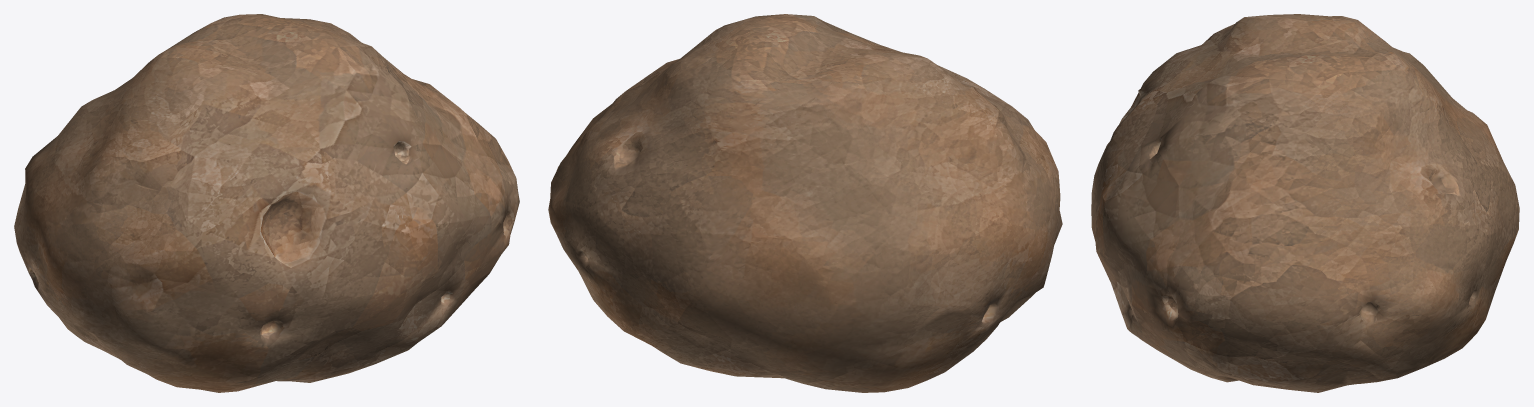
The model's file is rock_3d_model.fbx.
The picture shows the model from 3 angles, left to right: view 1: azimuth 30°, elevation 25°; view 2: azimuth 150°, elevation 25°; view 3: azimuth 270°, elevation 25°; orthographic projection.
Visible parts, largest first — view 1: tripo_node_5a344a5e-2ba1-42bd-be9a-b7782aa38ed8; view 2: tripo_node_5a344a5e-2ba1-42bd-be9a-b7782aa38ed8; view 3: tripo_node_5a344a5e-2ba1-42bd-be9a-b7782aa38ed8.
Boxes of the visible parts, bbox=[...] form: tripo_node_5a344a5e-2ba1-42bd-be9a-b7782aa38ed8: bbox=[14, 14, 519, 392]; tripo_node_5a344a5e-2ba1-42bd-be9a-b7782aa38ed8: bbox=[548, 14, 1062, 392]; tripo_node_5a344a5e-2ba1-42bd-be9a-b7782aa38ed8: bbox=[1091, 14, 1519, 392].
Size of the model in its own units: 0.9995 by 0.6612 by 0.8296.
1 material, 1 textured.
